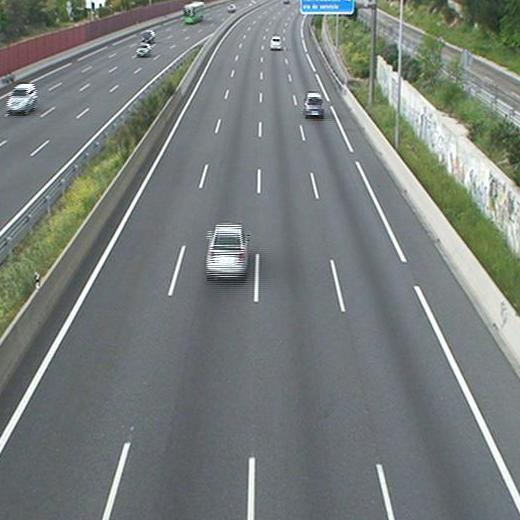cat: (206, 223, 248, 279), (303, 91, 324, 120), (270, 35, 282, 51)
